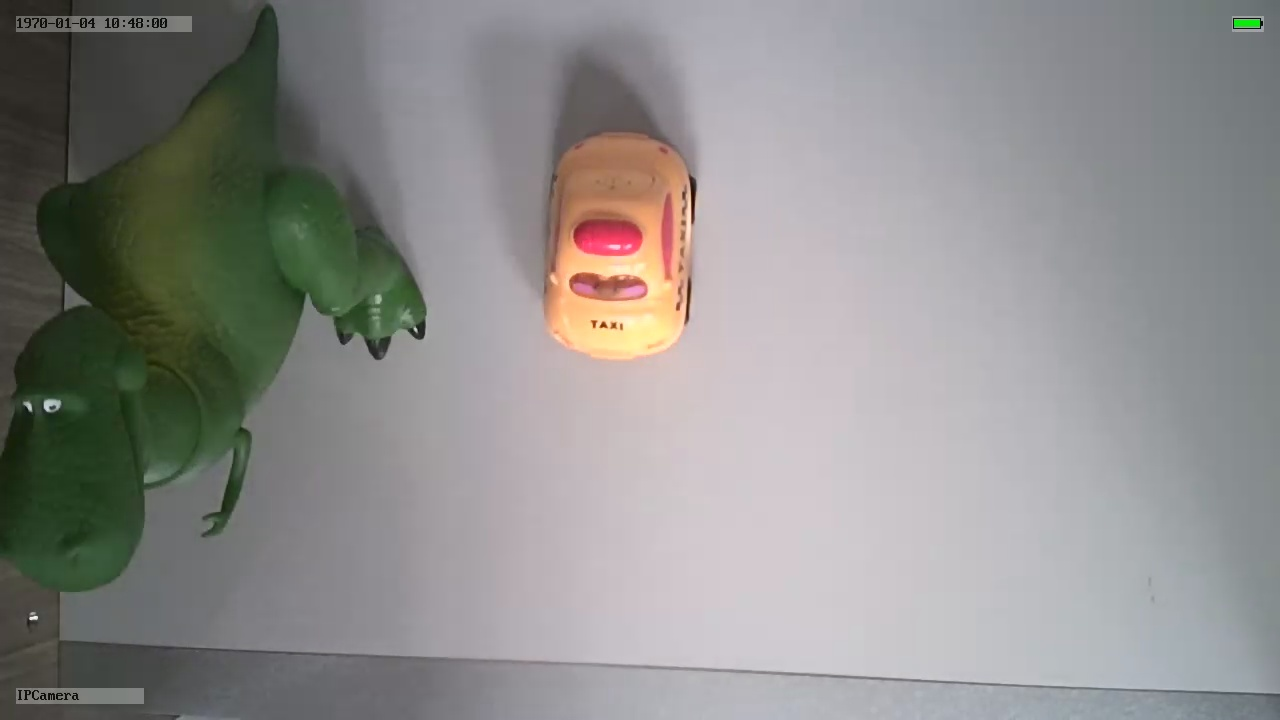car: (541, 124, 701, 363)
rex: (3, 84, 427, 595)
